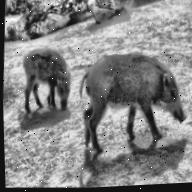boar: (66, 28, 192, 167)
